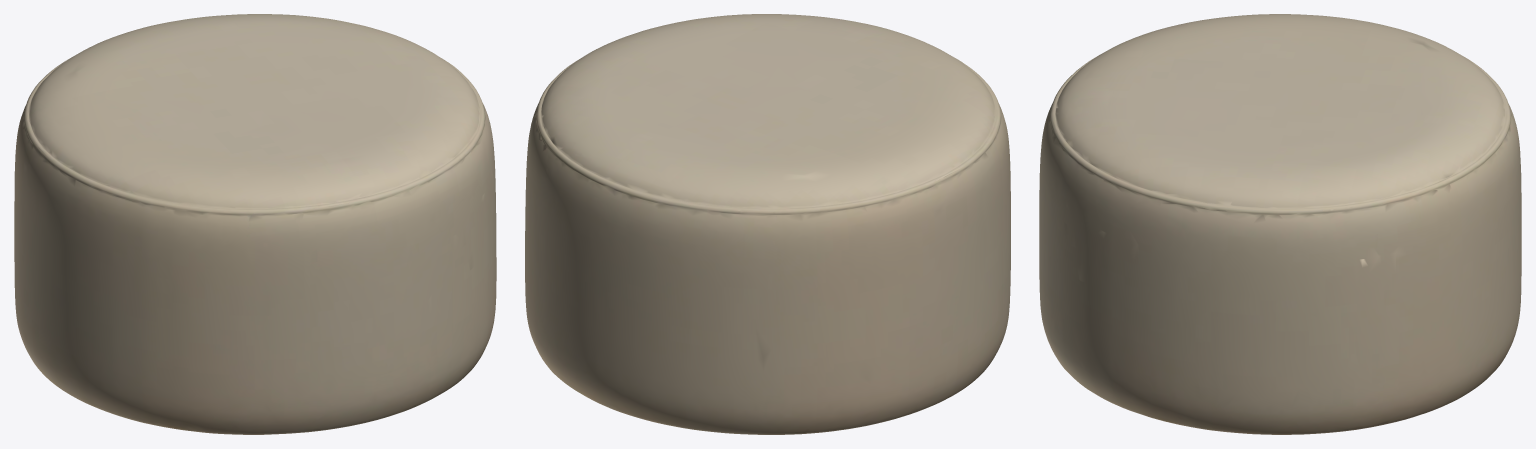
3 views of the same model, side by side, from view 1: azimuth 30°, elevation 25°; view 2: azimuth 150°, elevation 25°; view 3: azimuth 270°, elevation 25° (orthographic).
Visible parts, largest first — view 1: material; view 2: material; view 3: material.
Part boxes in pixels (bbox=[...]): material: bbox=[14, 14, 496, 434]; material: bbox=[525, 14, 1010, 434]; material: bbox=[1039, 14, 1521, 434].
Size of the model in its own units: 1.09 by 0.6067 by 1.09.
1 material, 1 textured.
